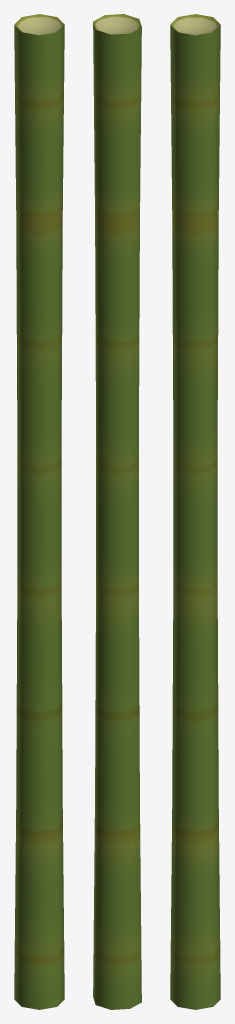
Rendered from Bamboo_8.fbx.
The picture shows the model from 3 angles, left to right: view 1: azimuth 90°, elevation 25°; view 2: azimuth 210°, elevation 25°; view 3: azimuth 270°, elevation 25°; orthographic projection.
Parts seen in each view (by area): view 1: Bamboo_8_LOD0; view 2: Bamboo_8_LOD0; view 3: Bamboo_8_LOD0.
Part boxes in pixels (box(x1,y1,x2,y2)): Bamboo_8_LOD0: box(14, 14, 64, 1009); Bamboo_8_LOD0: box(93, 14, 141, 1009); Bamboo_8_LOD0: box(170, 14, 220, 1009).
Size of what is drawn, in the model's own units: 14.02 by 298 by 14.02.
